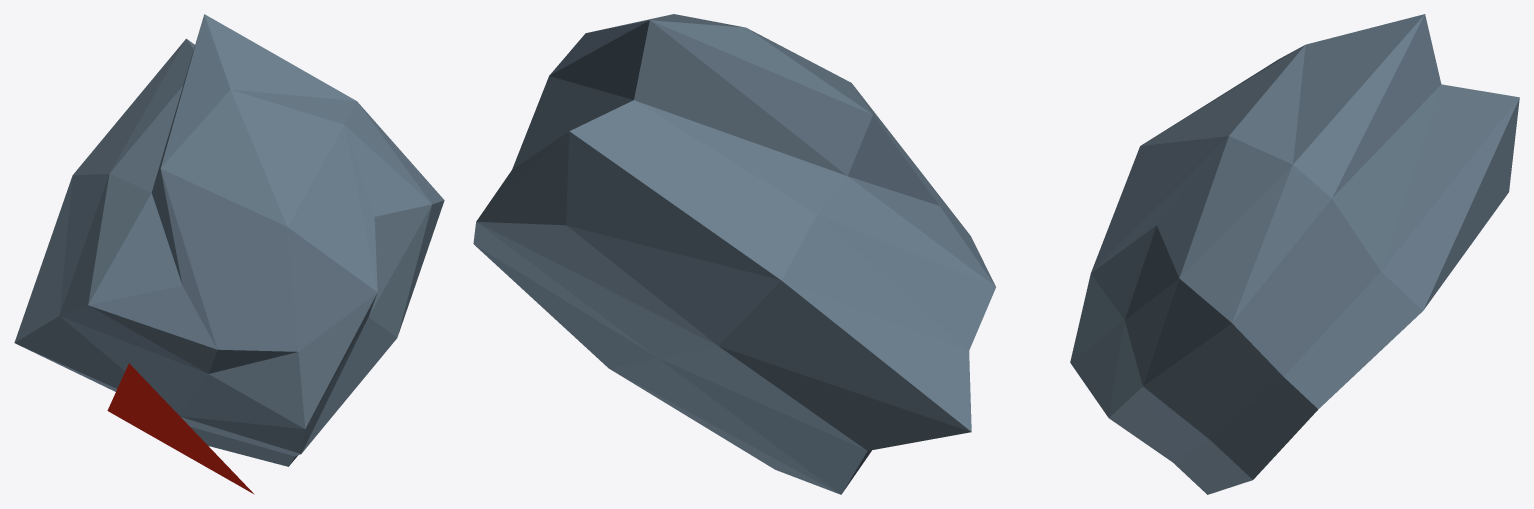
The model's file is chapeu_drop.glb.
3 views of the same model, side by side, from view 1: azimuth 30°, elevation 25°; view 2: azimuth 150°, elevation 25°; view 3: azimuth 270°, elevation 25° (orthographic). The views are drawn at different scales.
Size of the model in its own units: 0.3716 by 0.366 by 0.3047.
Materials: 2 (2 with a texture image).
